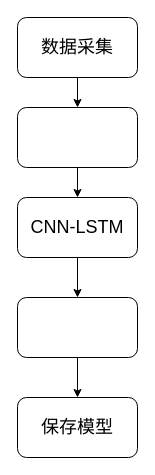
Image size: 155x475. Some labels were removed from this diagram. The shapes that lost their labels are listed below. From the top down, each one's box as (x1, y1, x2, y2) in pixels, then its label:
(16, 106, 138, 168): 归一化
(16, 296, 138, 358): 模型训练
